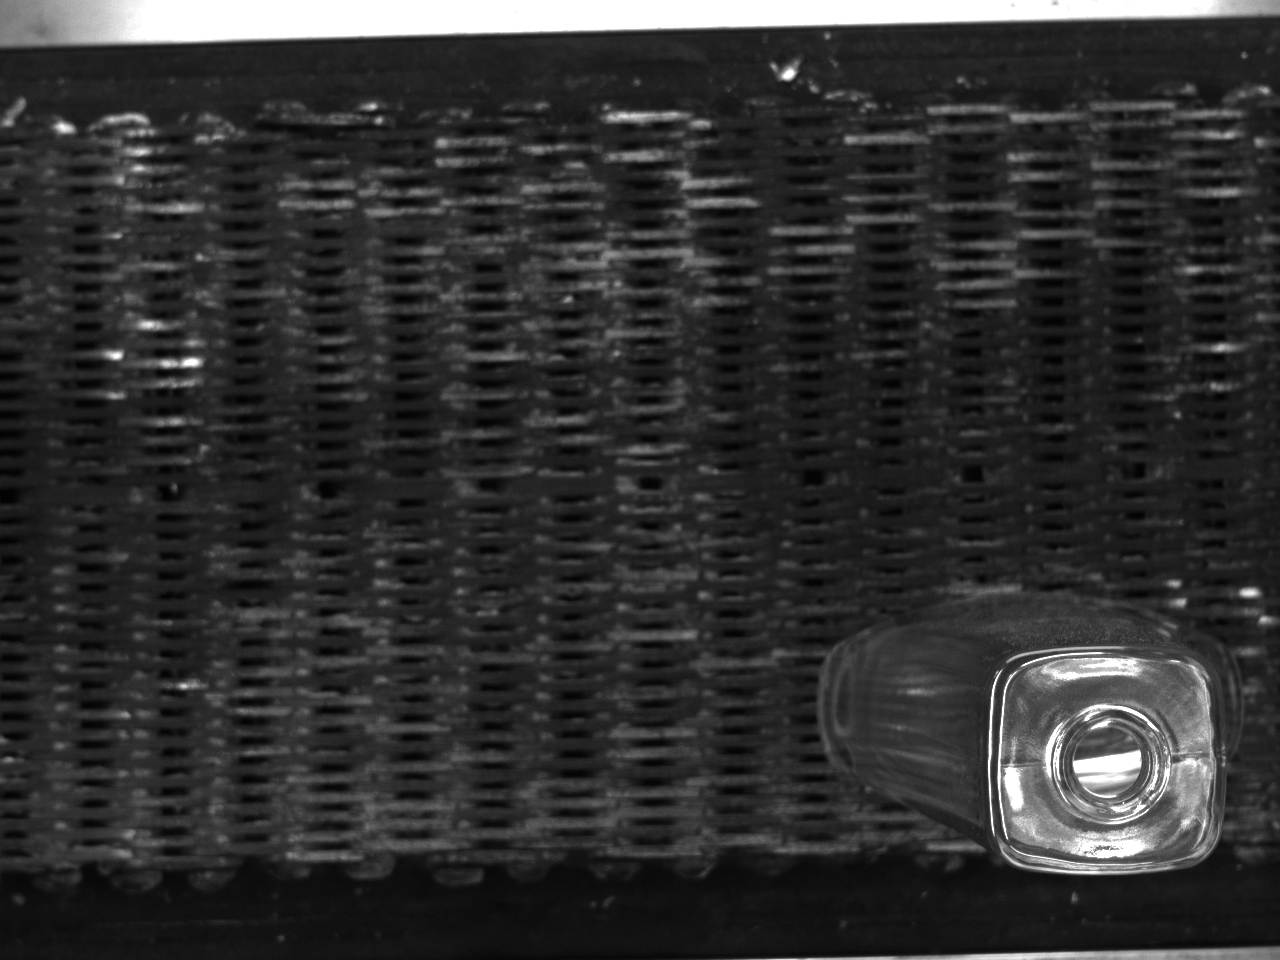bottleneck: (1052, 704, 1172, 824)
